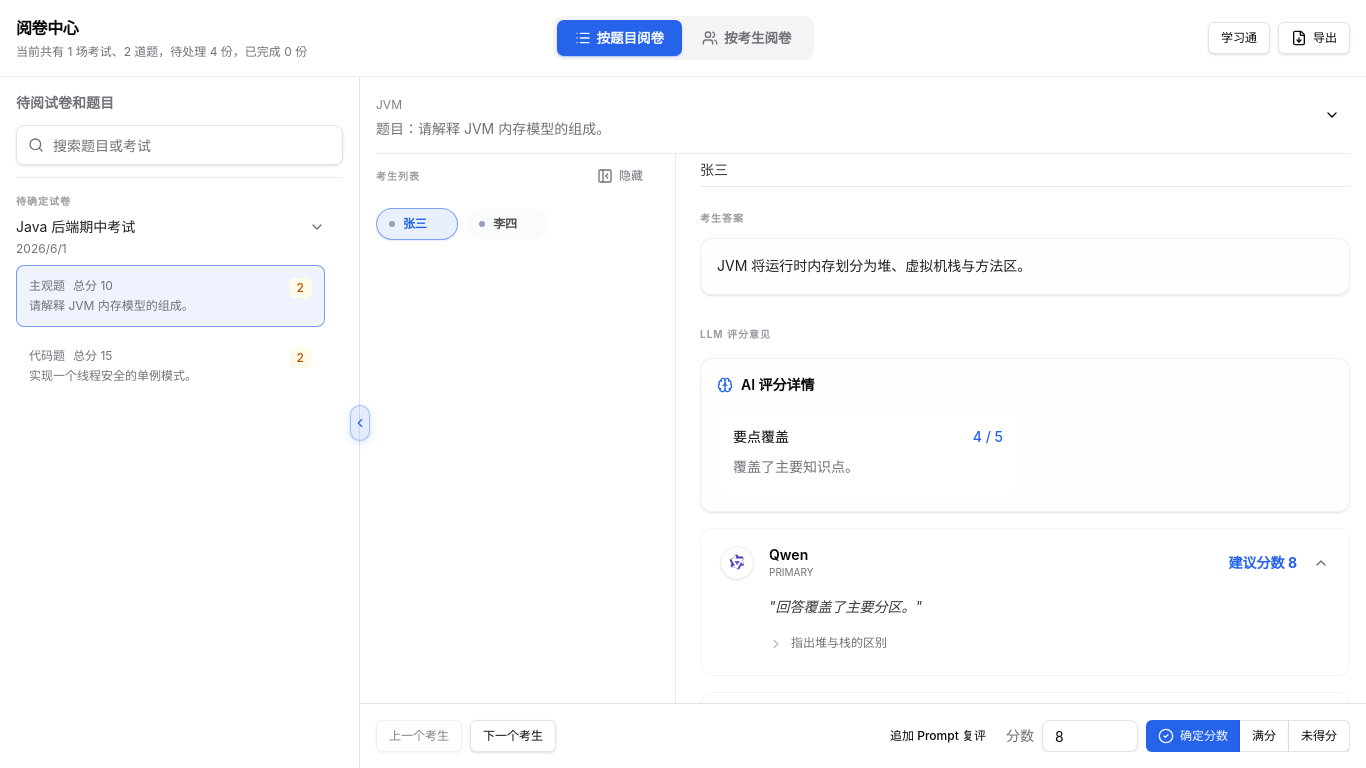
Scenario: GradingCenterPage › switches to candidate mode and renders the per-candidate workspace
Expected: the heading "Java 后端期中考试" is shown, [16, 217, 135, 237]
Click the button "按考生阅卷": {"x": 747, "y": 38} [684, 20, 810, 56]
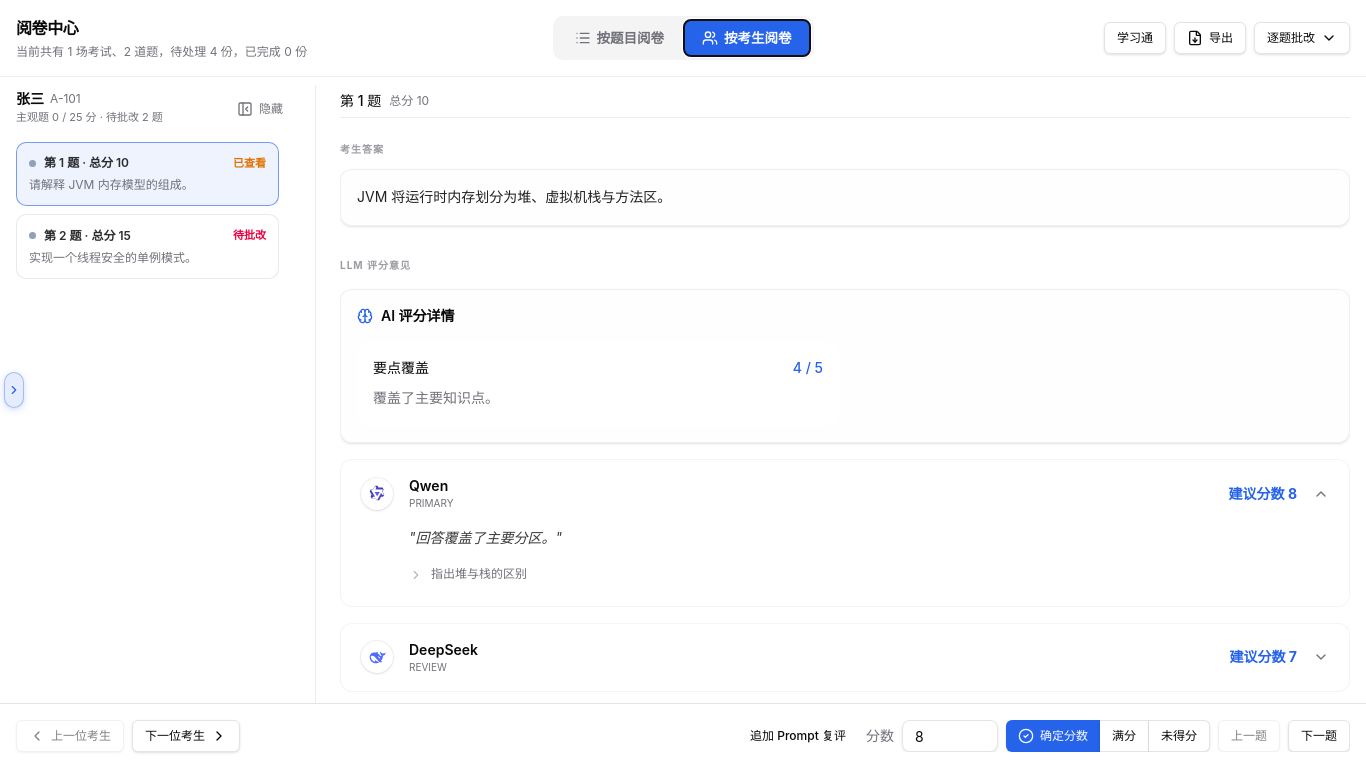
Expected: the text "A-101" is shown, [50, 91, 81, 107]
Expected: the button "下一位考生" is shown, [132, 720, 240, 752]
Expected: the button "上一题" is shown, [1218, 720, 1280, 752]
